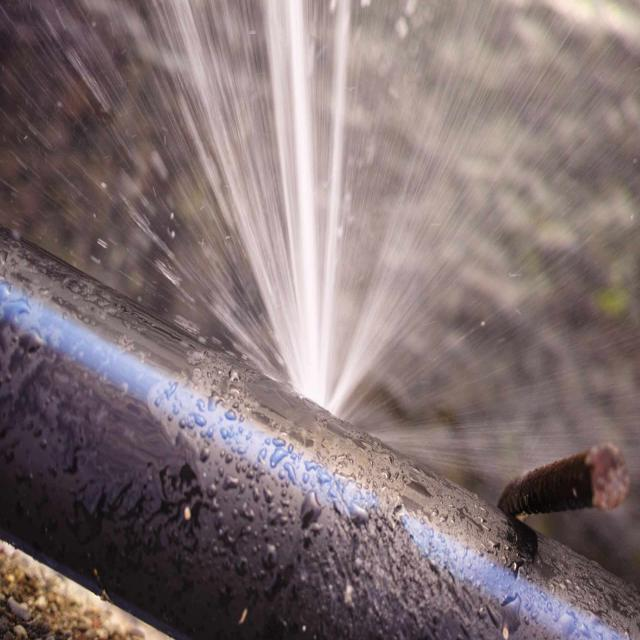leak: (0, 0, 640, 589)
